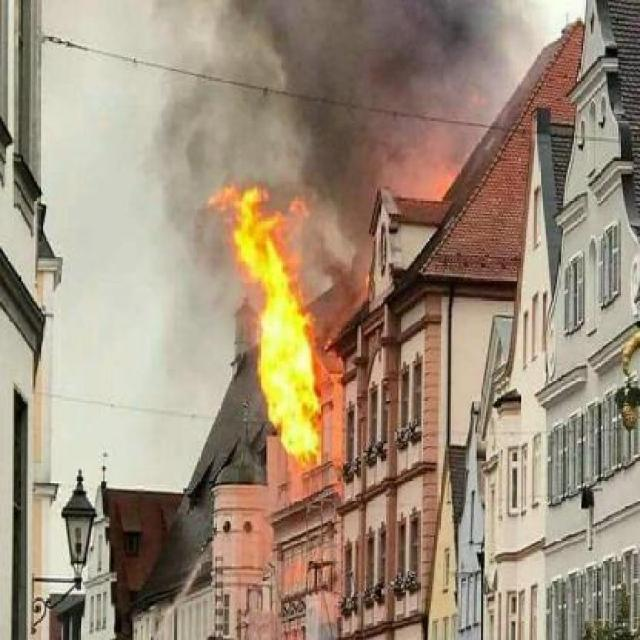Fire: (201, 187, 338, 468)
Smoke: (128, 17, 478, 179)
